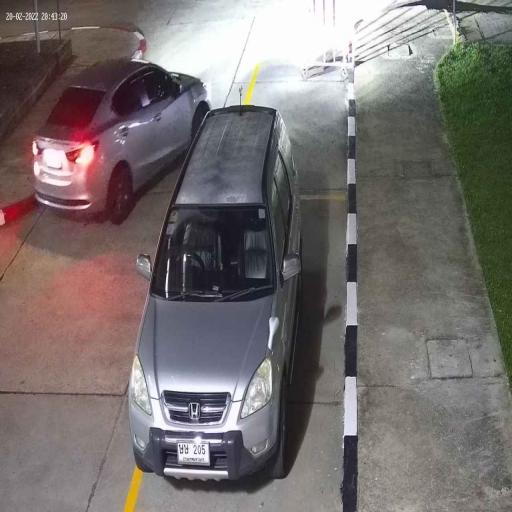car: (128, 100, 306, 488), (32, 56, 216, 227)
